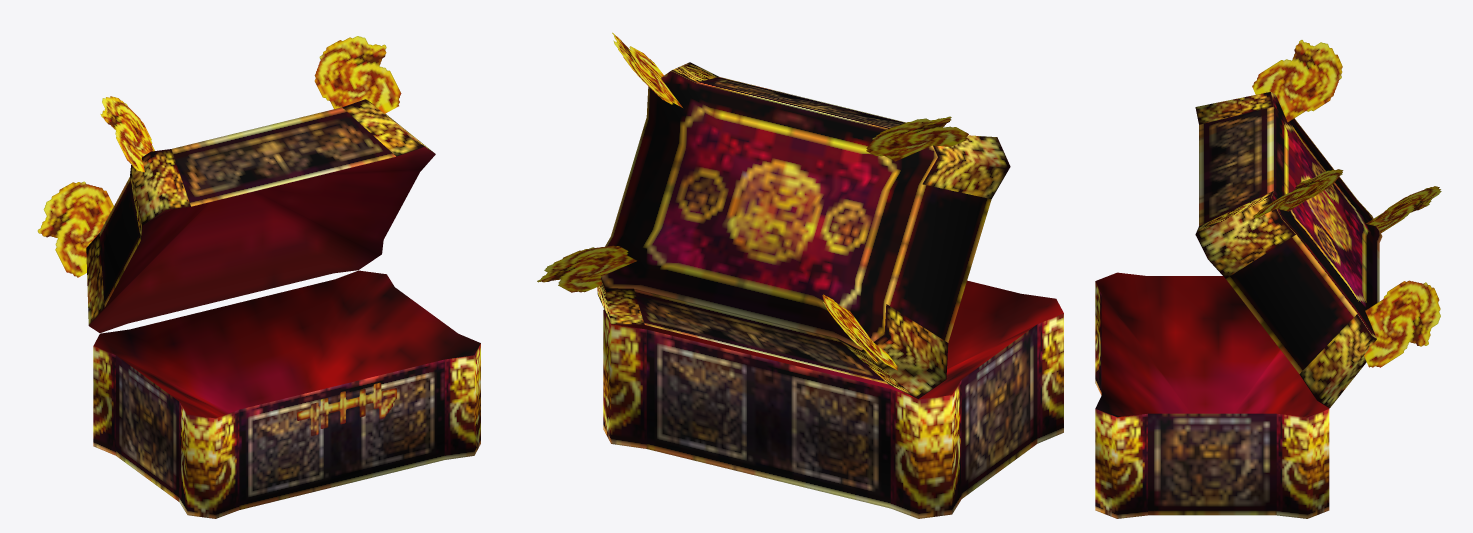
File: drop_ch_equip_rare.glb
3 renders of one model, left to right at view 1: azimuth 30°, elevation 25°; view 2: azimuth 150°, elevation 25°; view 3: azimuth 270°, elevation 25°, orthographic. The views are drawn at different scales.
Parts seen in each view (by area): view 1: drop_ch_equip_rare; view 2: drop_ch_equip_rare; view 3: drop_ch_equip_rare.
Part boxes in pixels (<box>): drop_ch_equip_rare: <box>37,36,480,518</box>; drop_ch_equip_rare: <box>537,32,1063,518</box>; drop_ch_equip_rare: <box>1095,40,1441,518</box>.
Bounding box in the file's own units: 0.5912 × 0.6595 × 0.6117.
Materials: 1 (1 with a texture image).
